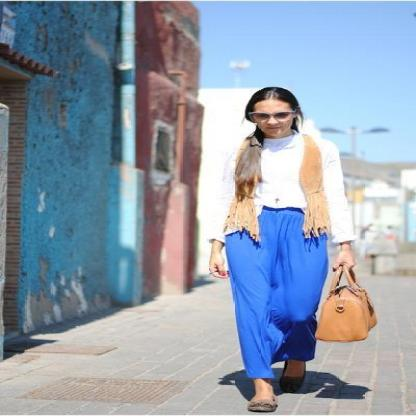bag: (315, 258, 377, 342)
pants: (223, 205, 328, 379)
shirt: (200, 133, 358, 242)
shoe: (262, 375, 302, 396)
